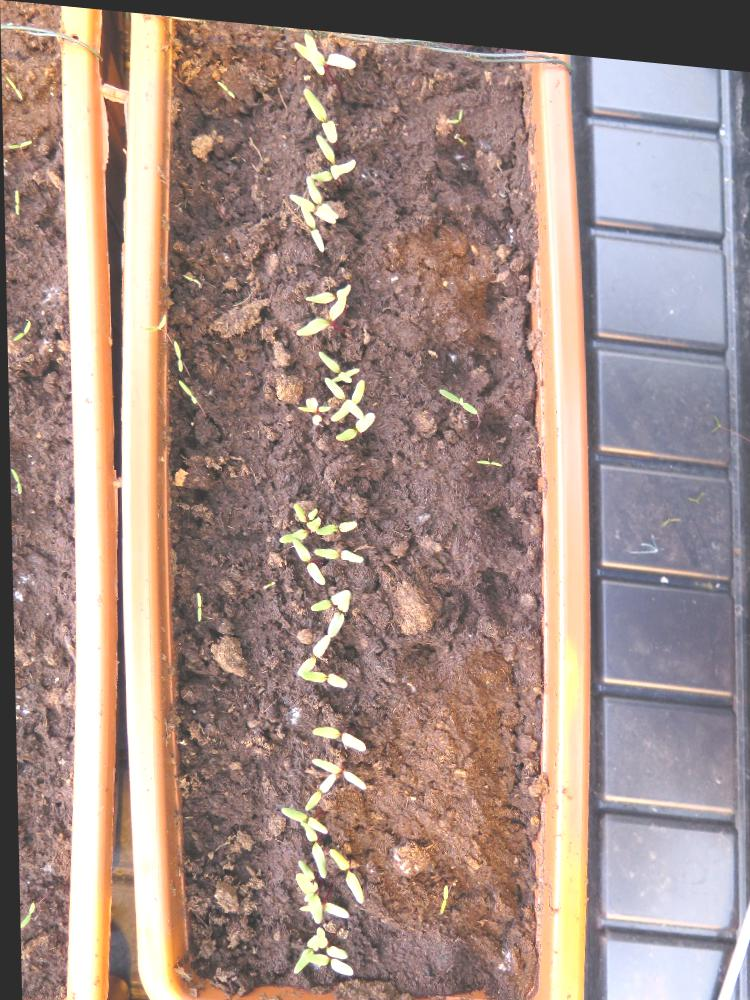crop: (322, 838, 360, 898), (305, 715, 363, 748), (309, 538, 361, 558)
weed: (435, 377, 475, 408), (139, 305, 165, 332), (175, 372, 195, 401), (215, 73, 234, 95), (473, 447, 500, 460), (434, 872, 444, 907), (171, 333, 180, 371), (191, 584, 199, 618)
